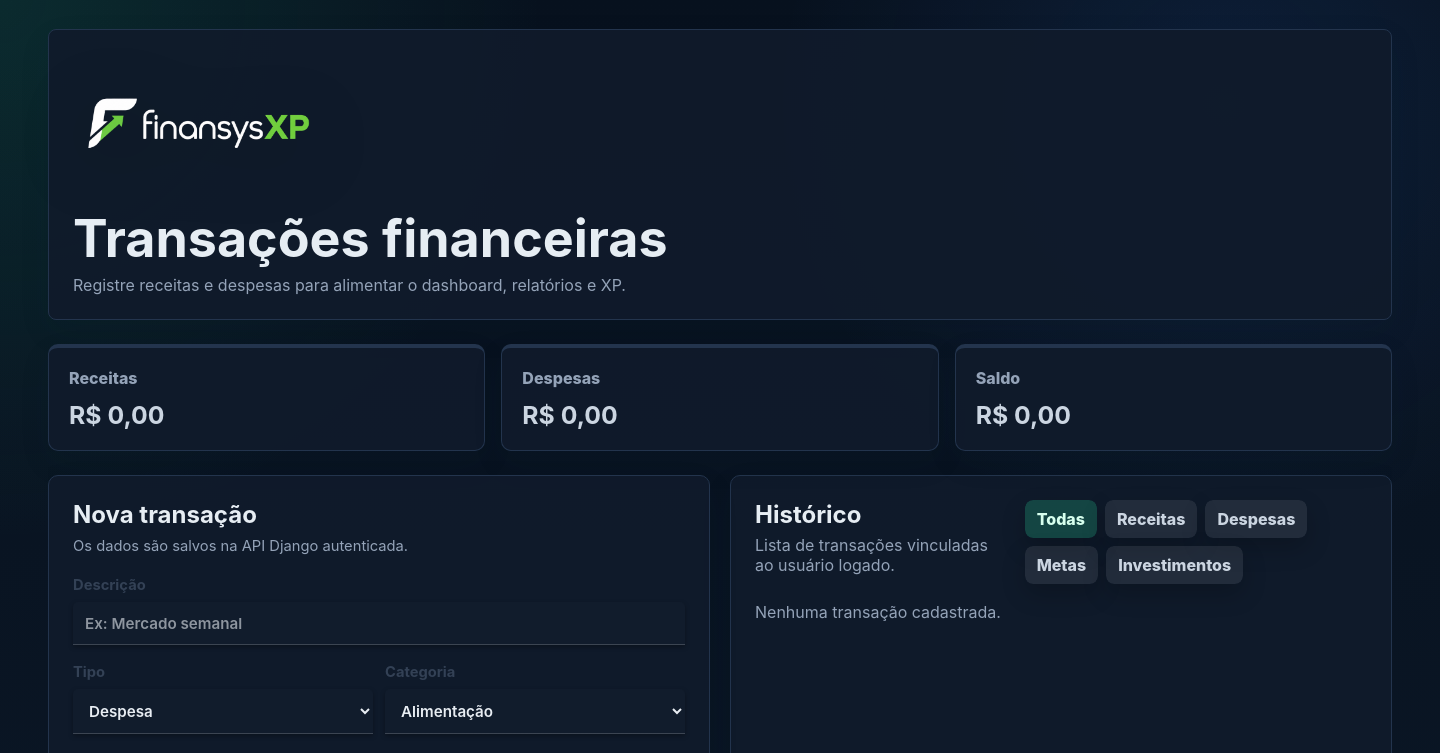
Transactions › cadastra uma nova transação e recarrega a lista
Type "Mercado" into the field labelled "Descrição" at (379, 624), box [73,602,685,645]
(page scrolled)
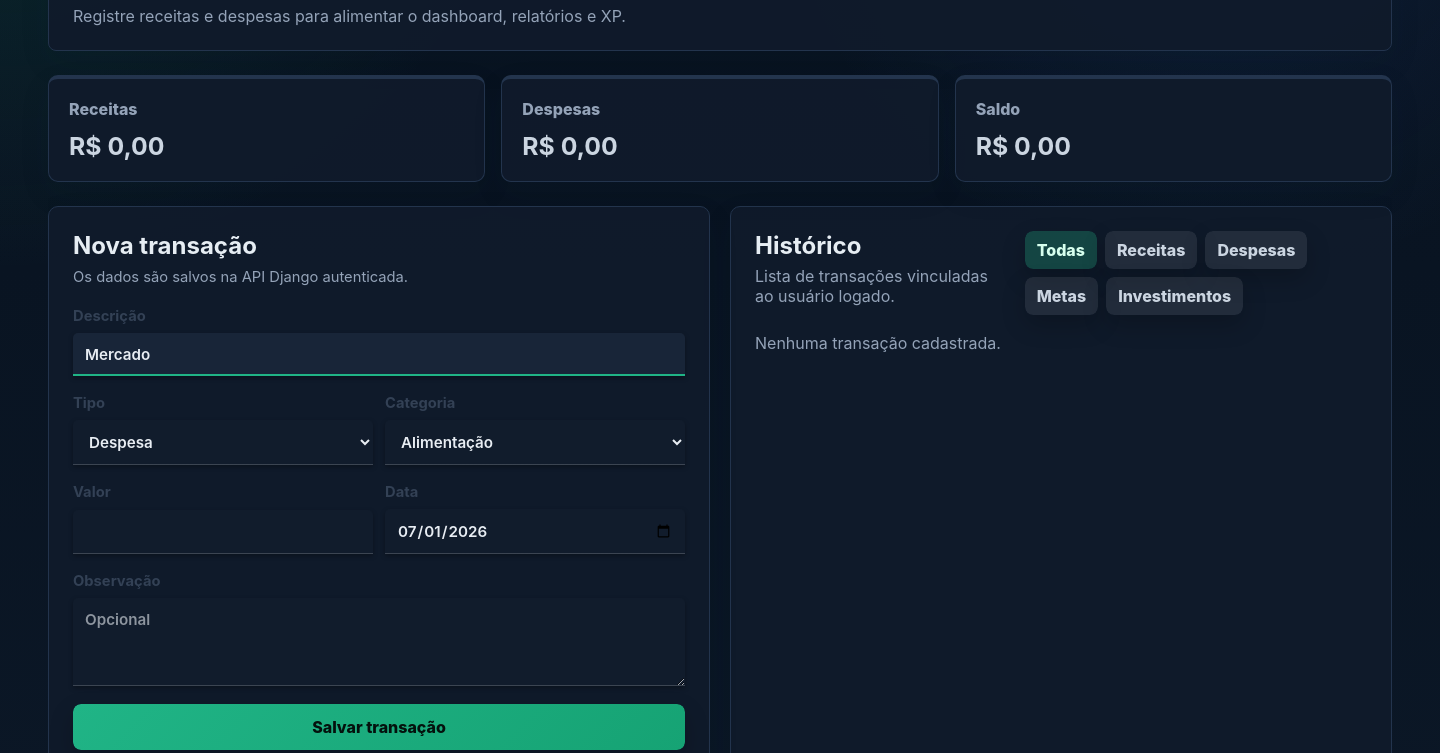
Type "120" into the number field labelled "Valor" at (223, 532), box [73,510,373,554]
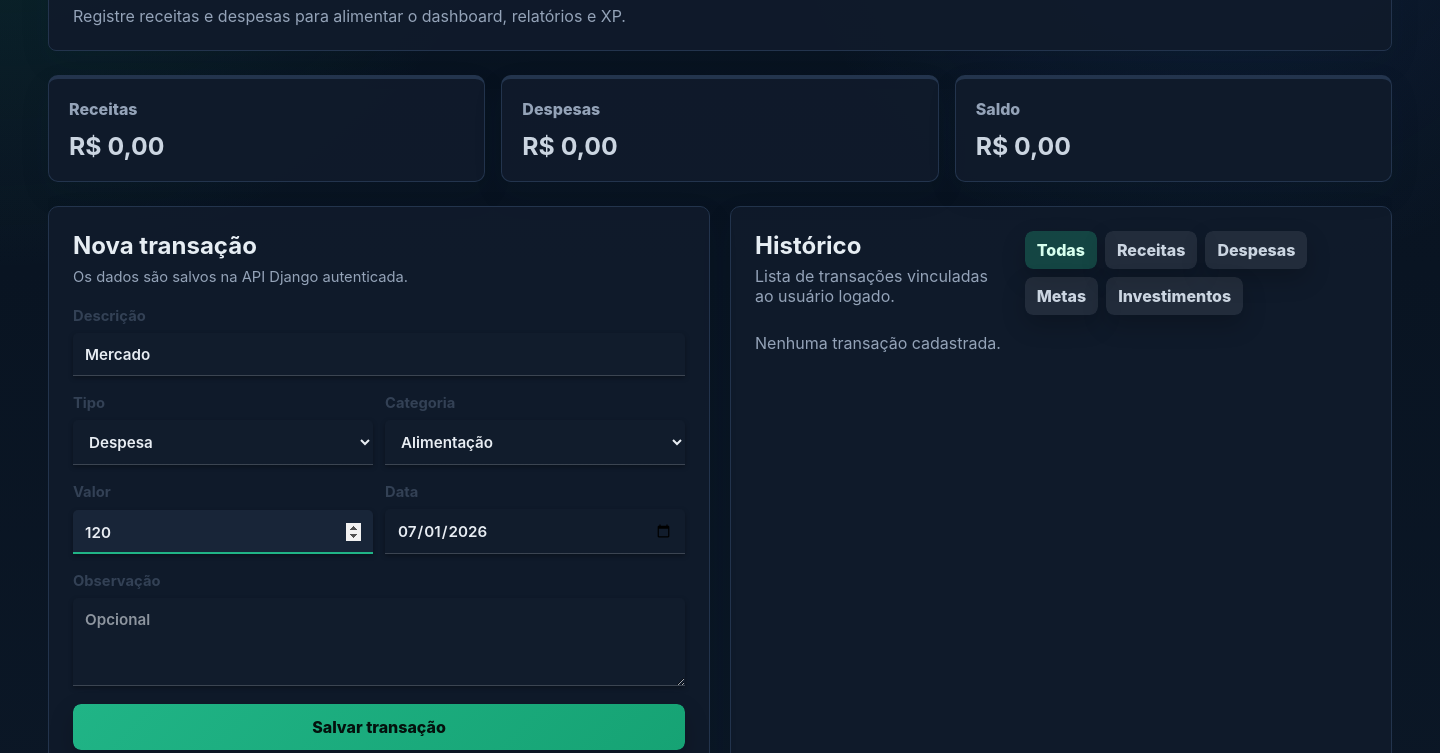
Click the button "Salvar transação" at (379, 727), box [73,704,685,750]
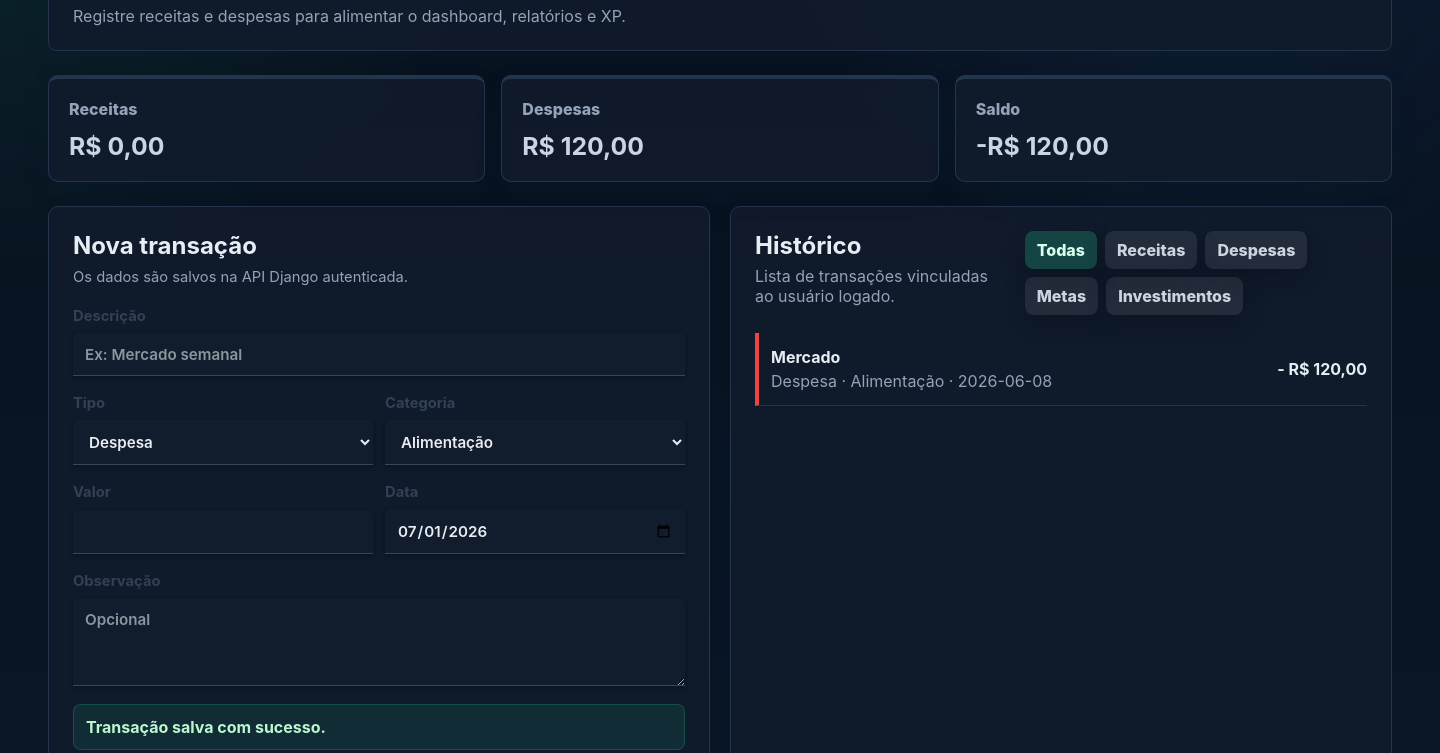
Expected: the text "Mercado" is shown, [771,347,840,367]
